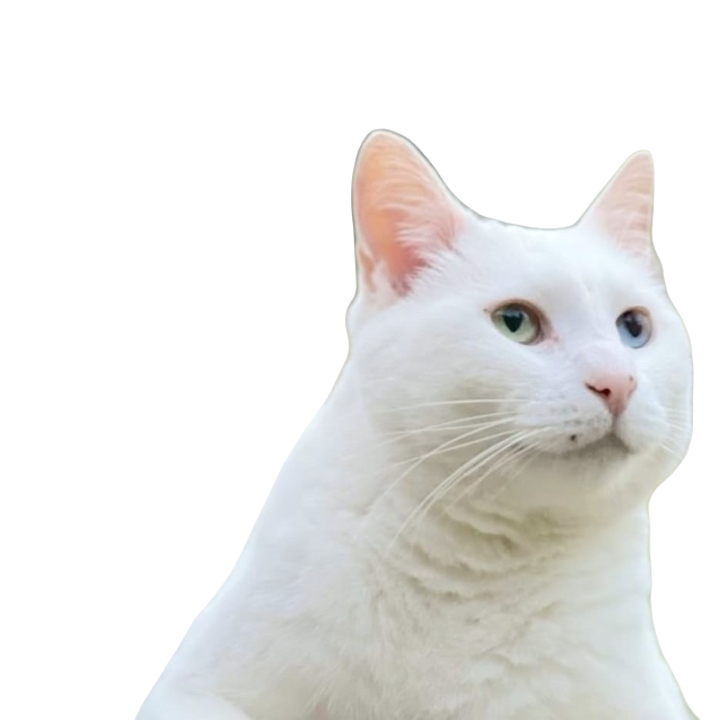Cat: (133, 127, 706, 715)
